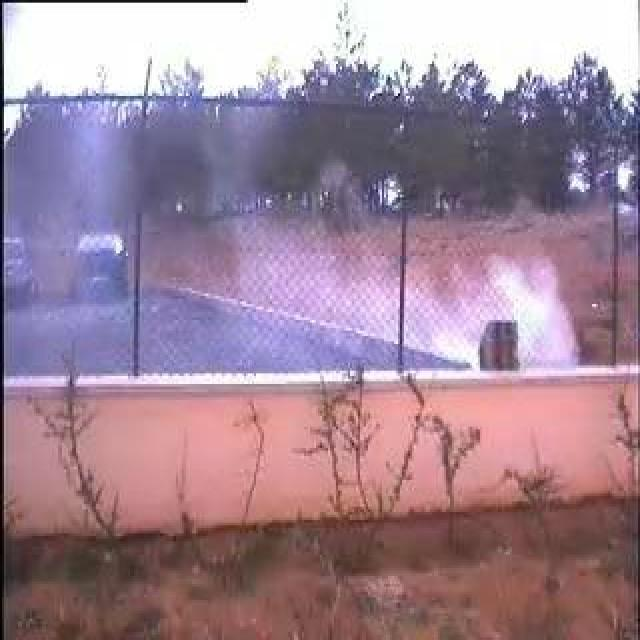Smoke: (438, 247, 572, 372)
